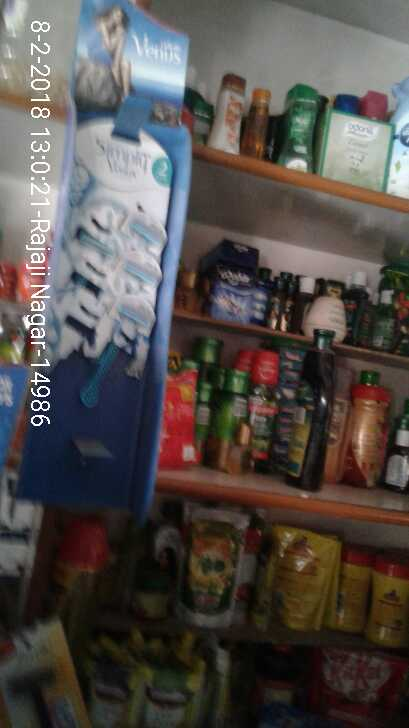venus: (50, 140, 187, 418)
